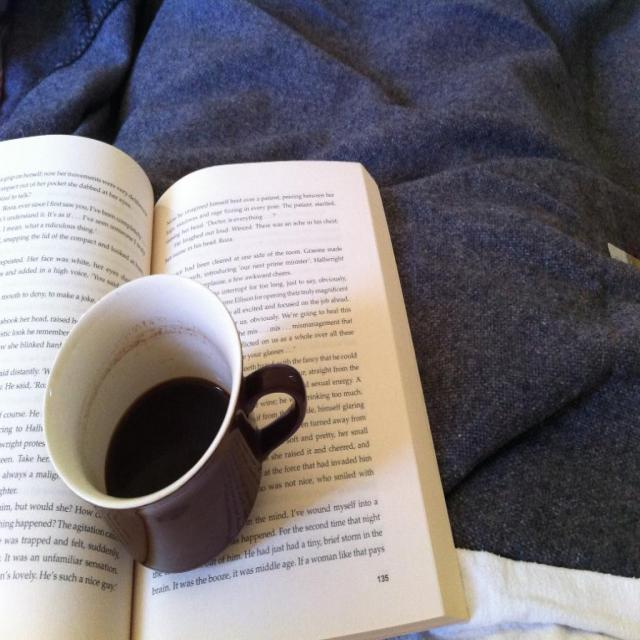Coffee: (24, 259, 322, 568)
Tea: (105, 373, 228, 500)
